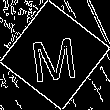M_N: (29, 27, 81, 83)
